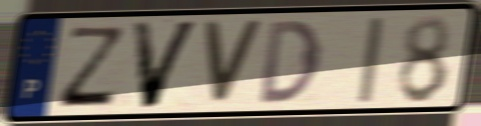8: (393, 13, 457, 105)
D: (258, 17, 324, 107)
I: (355, 14, 387, 106)
V: (128, 18, 203, 112), (200, 19, 266, 108)
Z: (55, 24, 128, 110)
